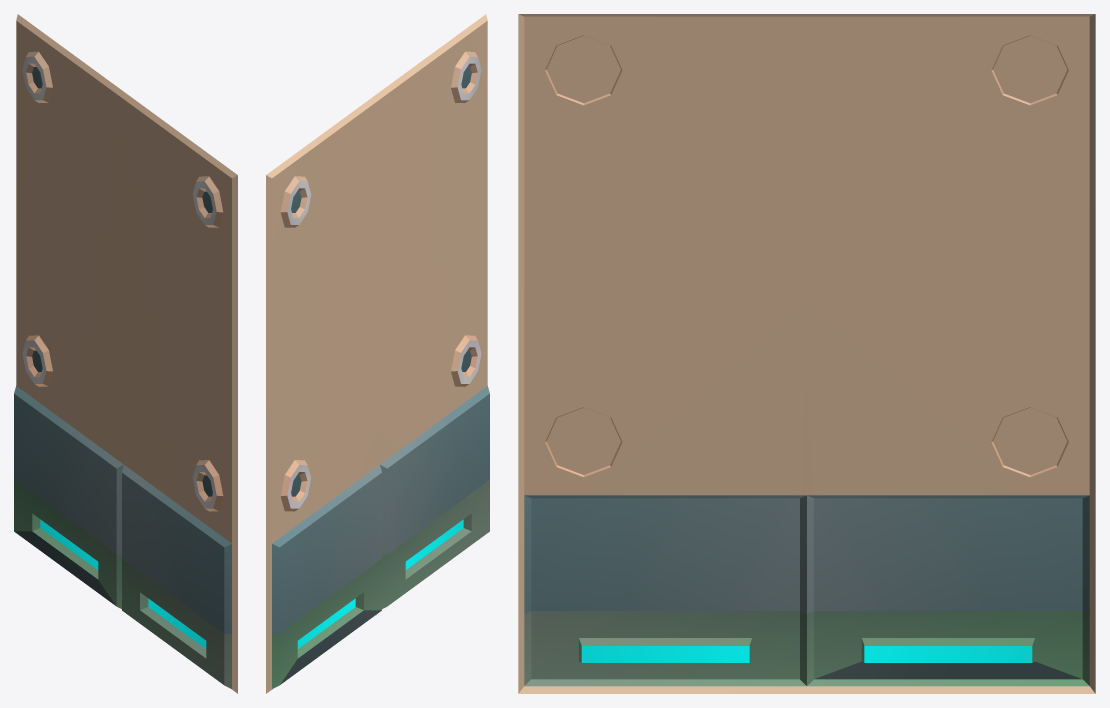
The model's file is R_Wall_2.fbx.
3 renders of one model, left to right at view 1: azimuth 30°, elevation 25°; view 2: azimuth 150°, elevation 25°; view 3: azimuth 270°, elevation 25°, orthographic. The views are drawn at different scales.
Parts seen in each view (by area): view 1: R_Wall_2; view 2: R_Wall_2; view 3: R_Wall_2.
Boxes of the visible parts, x1,y1,x2,y2 form: R_Wall_2: (14,14,237,693); R_Wall_2: (266,14,489,693); R_Wall_2: (518,14,1095,693).
Bounding box in the file's own units: 4.55 × 260 × 200.
